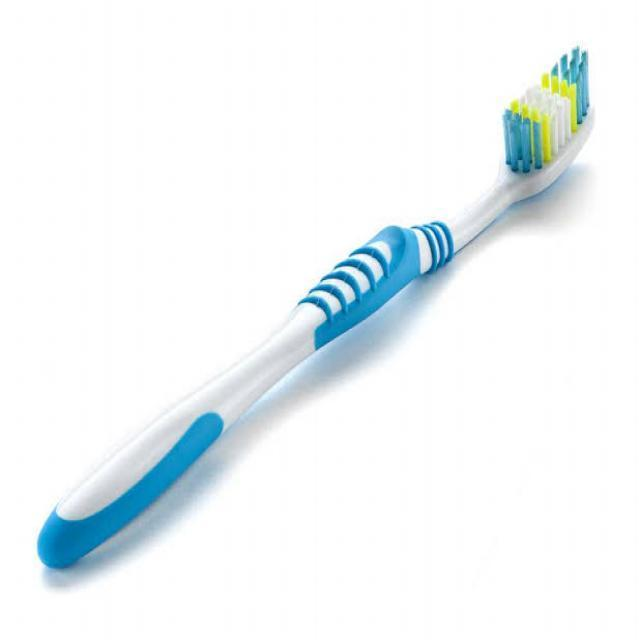toothbrush: (34, 38, 597, 576)
